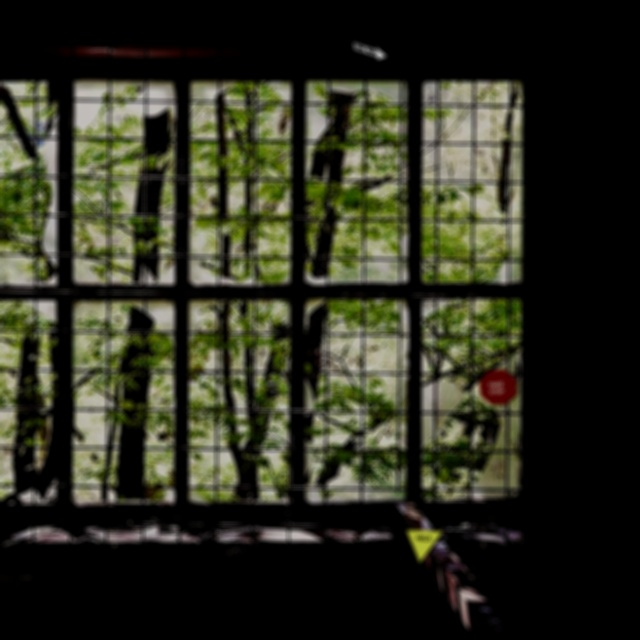FAKE_STOP: (478, 368, 517, 405)
ONE_WAY_ right: (351, 39, 390, 64)
YIELD: (405, 529, 444, 564)
